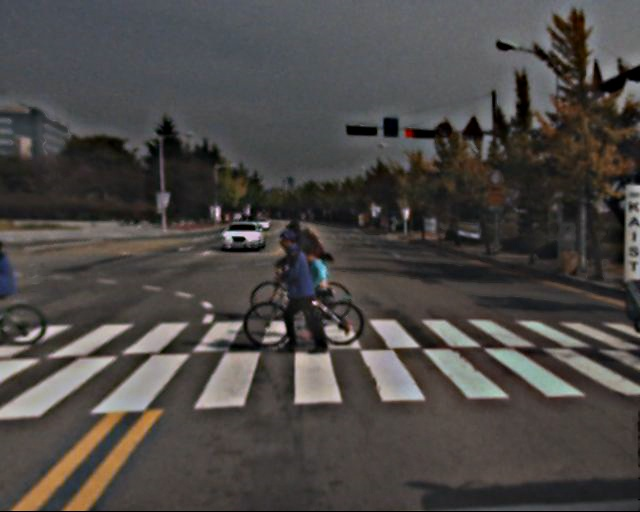person: (275, 228, 327, 352), (280, 217, 331, 331), (296, 242, 336, 339)
